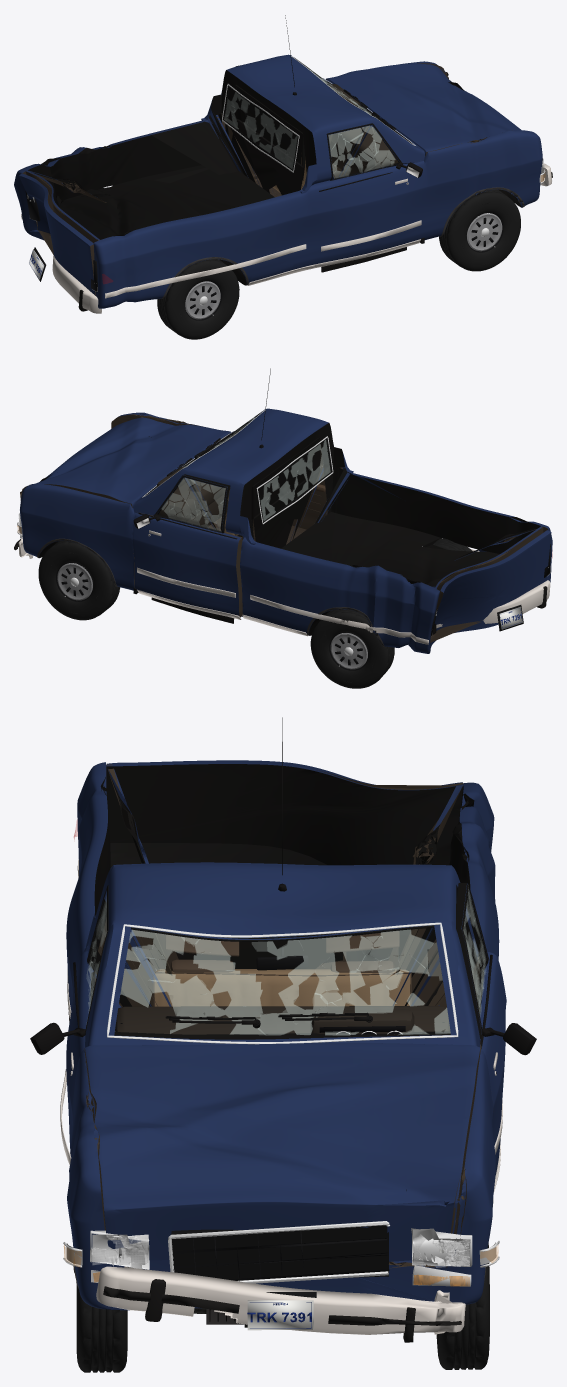
Rendered from pickup87_rear_corner_d1_lod1.glb.
3 views of the same model, one above another, from view 1: azimuth 30°, elevation 25°; view 2: azimuth 150°, elevation 25°; view 3: azimuth 270°, elevation 25° (orthographic). The views are drawn at different scales.
Visible parts, largest first — view 1: Body, Hood, Wheel_FR_mesh, Wheel_RR_mesh, Door_FR, Tailgate, Glass, Interior, Trim, Trim_FR, Glass_FR, Bumper_R (+1 smaller); view 2: Body, Hood, Door_FL, Tailgate, Wheel_FL_mesh, Wheel_RL_mesh, Glass, Interior, Trim, Trim_FL, Glass_FL, Bumper_R (+2 smaller); view 3: Body, Hood, Interior, Glass, Ends, Bumper_F, Door_FL, Wheel_FR_mesh, Wheel_FL_mesh, Lamps_Head, Trim_FL, Trim_FR (+4 smaller).
Boxes of the visible parts, <box> form: Body: <box>14,54,542,308</box>; Hood: <box>326,64,521,156</box>; Wheel_FR_mesh: <box>439,189,520,271</box>; Wheel_RR_mesh: <box>157,259,239,339</box>; Door_FR: <box>312,123,423,263</box>; Tailgate: <box>19,173,95,295</box>; Glass: <box>222,56,415,172</box>; Interior: <box>273,84,396,192</box>; Trim: <box>21,15,524,298</box>; Trim_FR: <box>313,123,422,272</box>; Glass_FR: <box>328,126,398,180</box>; Bumper_R: <box>52,255,101,313</box>; Body: <box>20,408,552,653</box>; Hood: <box>36,417,230,507</box>; Door_FL: <box>132,474,242,617</box>; Tailgate: <box>430,530,551,642</box>; Wheel_FL_mesh: <box>38,541,120,620</box>; Wheel_RL_mesh: <box>310,609,394,688</box>; Glass: <box>142,410,333,524</box>; Interior: <box>156,467,234,535</box>; Trim: <box>37,368,479,646</box>; Trim_FL: <box>133,475,241,623</box>; Glass_FL: <box>157,475,227,533</box>; Bumper_R: <box>432,580,550,634</box>; Body: <box>66,762,499,1310</box>; Hood: <box>84,1043,480,1268</box>; Interior: <box>115,931,449,1034</box>; Glass: <box>107,922,458,1044</box>; Ends: <box>63,1221,499,1330</box>; Bumper_F: <box>96,1266,465,1342</box>; Door_FL: <box>456,883,506,1175</box>; Wheel_FR_mesh: <box>76,1285,127,1372</box>; Wheel_FL_mesh: <box>436,1243,489,1369</box>; Lamps_Head: <box>91,1234,469,1267</box>; Trim_FL: <box>462,884,536,1192</box>; Trim_FR: <box>30,885,108,1165</box>.
Size of the model in its own units: 5 by 2.58 by 2.34.
Materials: 34 (5 with a texture image).
